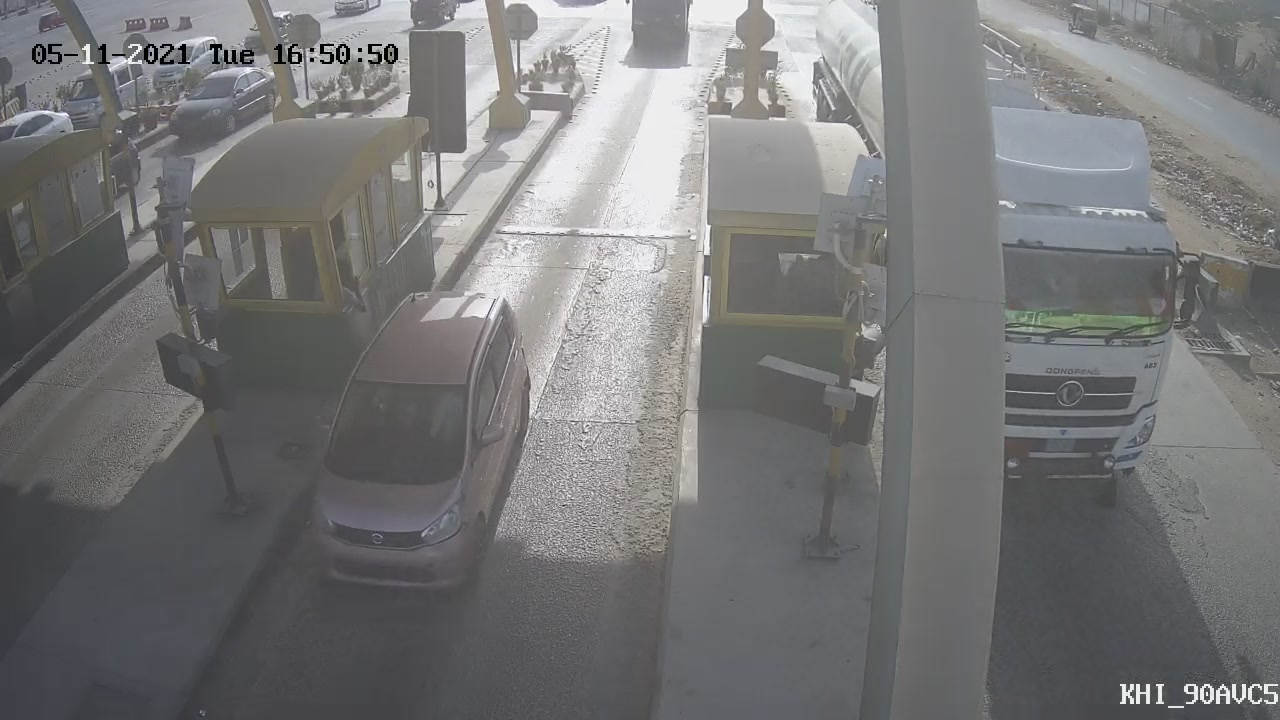F1: (290, 273, 557, 607)
